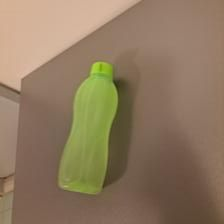bottle: (57, 59, 120, 197)
